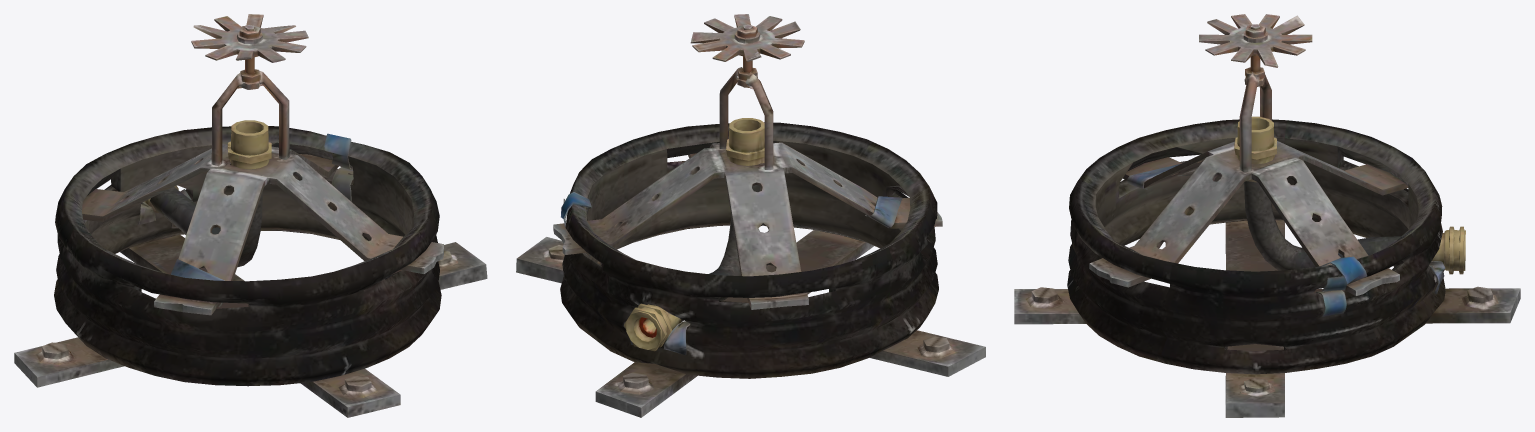
The model's file is sprinkler_model.glb.
3 views of the same model, side by side, from view 1: azimuth 30°, elevation 25°; view 2: azimuth 150°, elevation 25°; view 3: azimuth 270°, elevation 25° (orthographic). The views are drawn at different scales.
Visible parts, largest first — view 1: static; view 2: static; view 3: static.
Boxes of the visible parts, left/top/right/bottom form: static: left=14, top=14, right=487, bottom=417; static: left=516, top=14, right=985, bottom=417; static: left=1014, top=14, right=1520, bottom=417.
Size of the model in its own units: 0.6736 by 0.4213 by 0.6749.
1 material, 1 textured.
